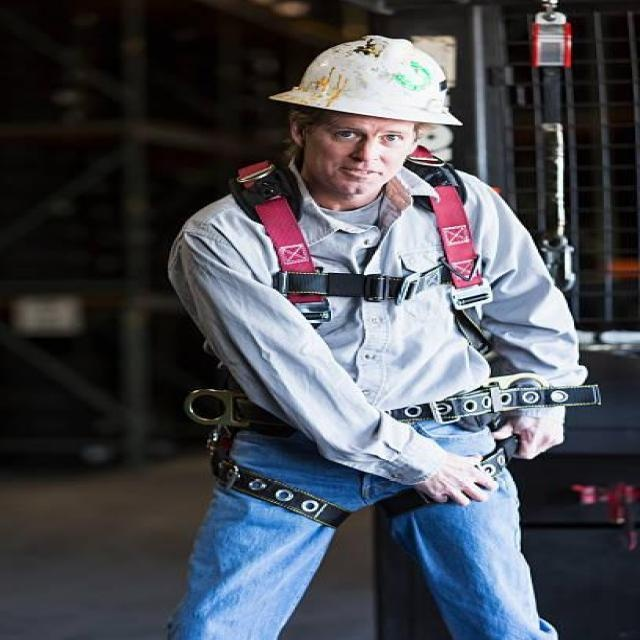Arnes_seguridad: (206, 145, 508, 526)
